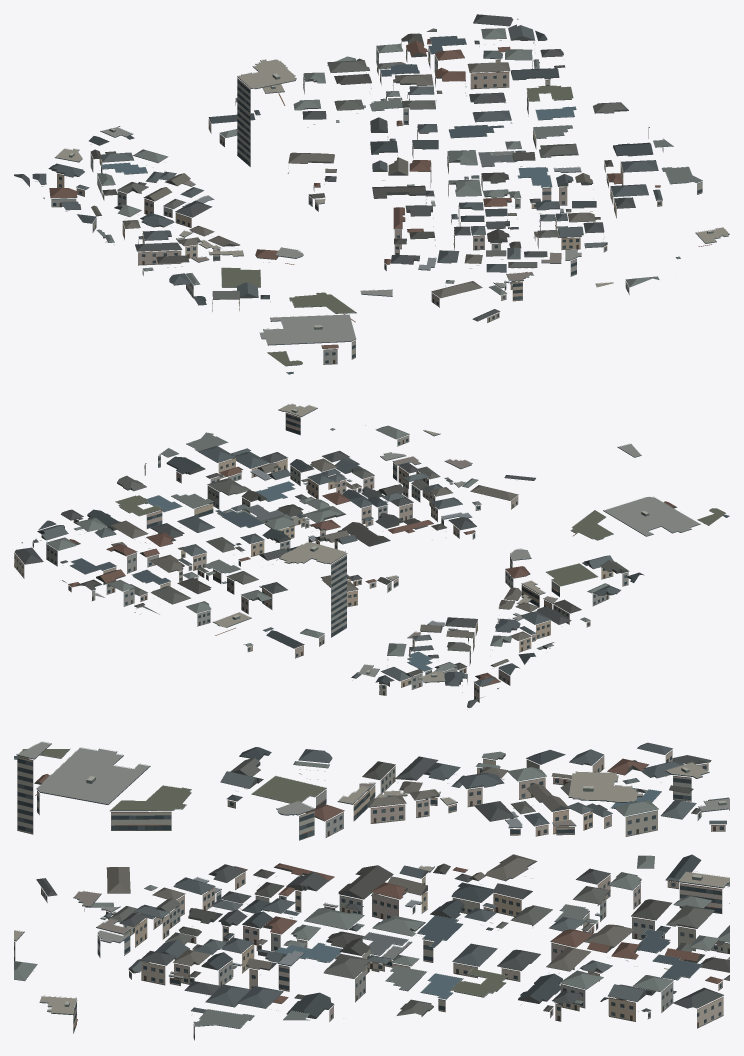
3 renders of one model, top to bottom at view 1: azimuth 30°, elevation 25°; view 2: azimuth 150°, elevation 25°; view 3: azimuth 270°, elevation 25°, orthographic. The views are drawn at different scales.
Parts seen in each view (by area): view 1: r0-c7; view 2: r0-c7; view 3: r0-c7.
Boxes of the visible parts, bbox=[...] form: r0-c7: bbox=[14, 14, 729, 374]; r0-c7: bbox=[14, 403, 729, 710]; r0-c7: bbox=[14, 741, 729, 1040].
Bounding box in the file's own units: 250 × 44.19 × 250.
